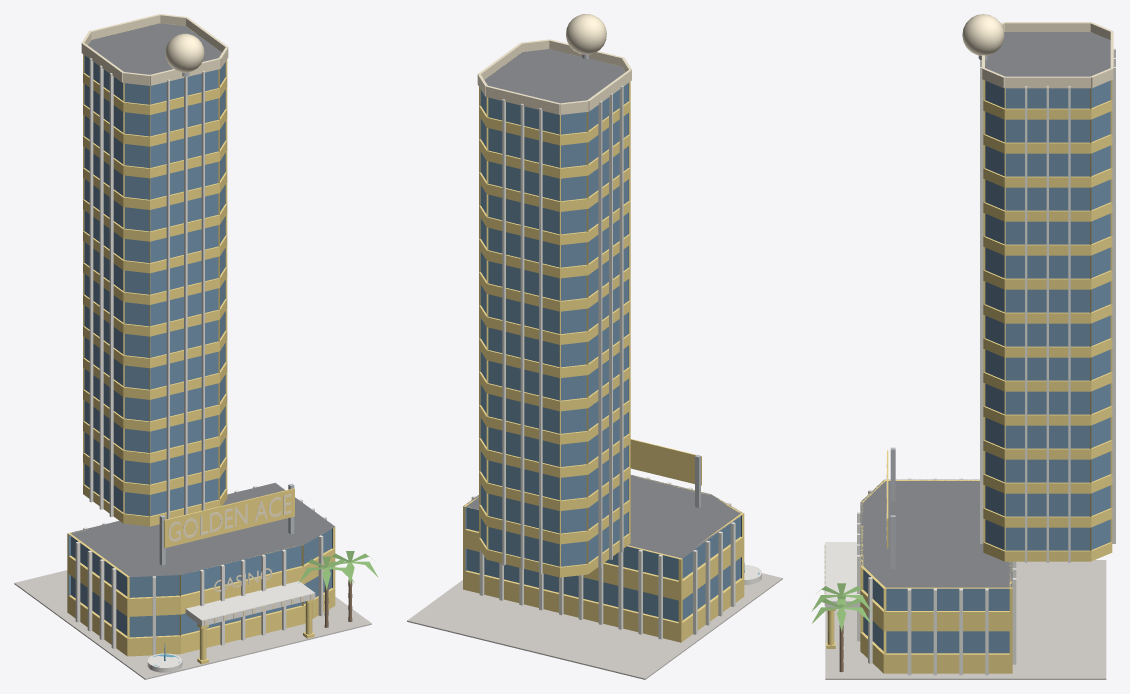
The model's file is casino.glb.
The picture shows the model from 3 angles, left to right: view 1: azimuth 30°, elevation 25°; view 2: azimuth 150°, elevation 25°; view 3: azimuth 270°, elevation 25°; orthographic projection. The views are drawn at different scales.
Visible parts, largest first — view 1: casino; view 2: casino; view 3: casino.
Boxes of the visible parts, <box> form: casino: <box>14,14,378,679</box>; casino: <box>407,14,782,679</box>; casino: <box>811,14,1115,679</box>.
Bounding box in the file's own units: 25.5 × 56.92 × 26.
